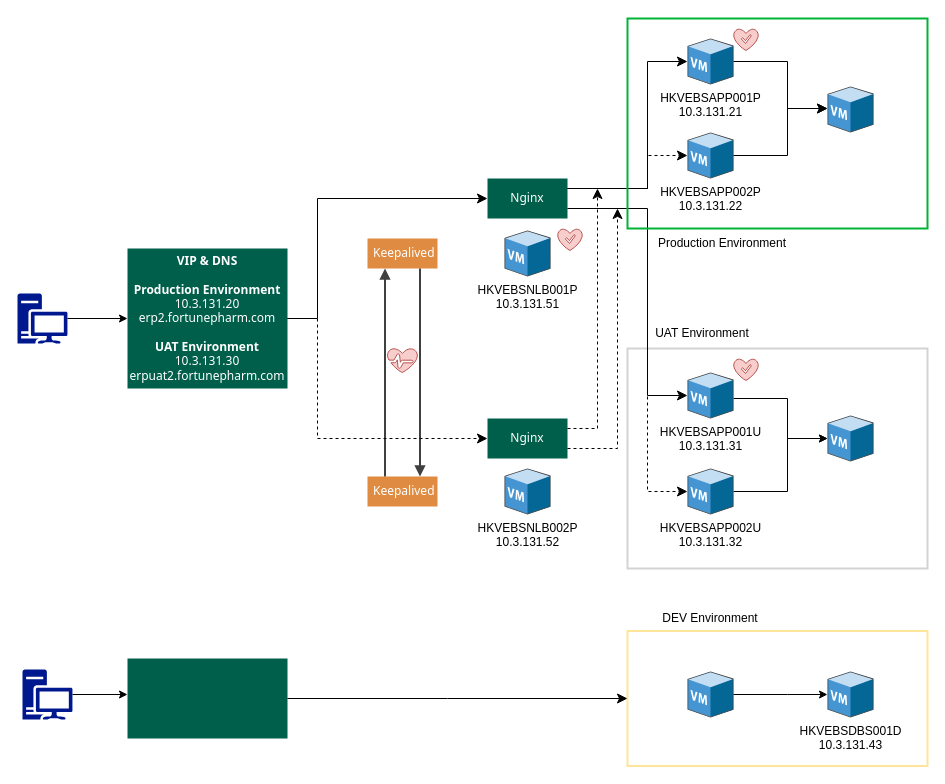
Image size: 945x784. Some labels were removed from this diagram. Here are the shapes that lost their labels. From the top down, the centre of each, then its label:
At point 850,109: "HKVEBSDBS001P 10.3.131.23".
At point 850,438: "HKVEBSDBS001U 10.3.131.33".
At point 207,698: "DNS DEV Environment 10.3.131.41 erpdev2.fortunepharm.com".
At point 710,694: "HKVEBSAPP001D 10.3.131.41".
